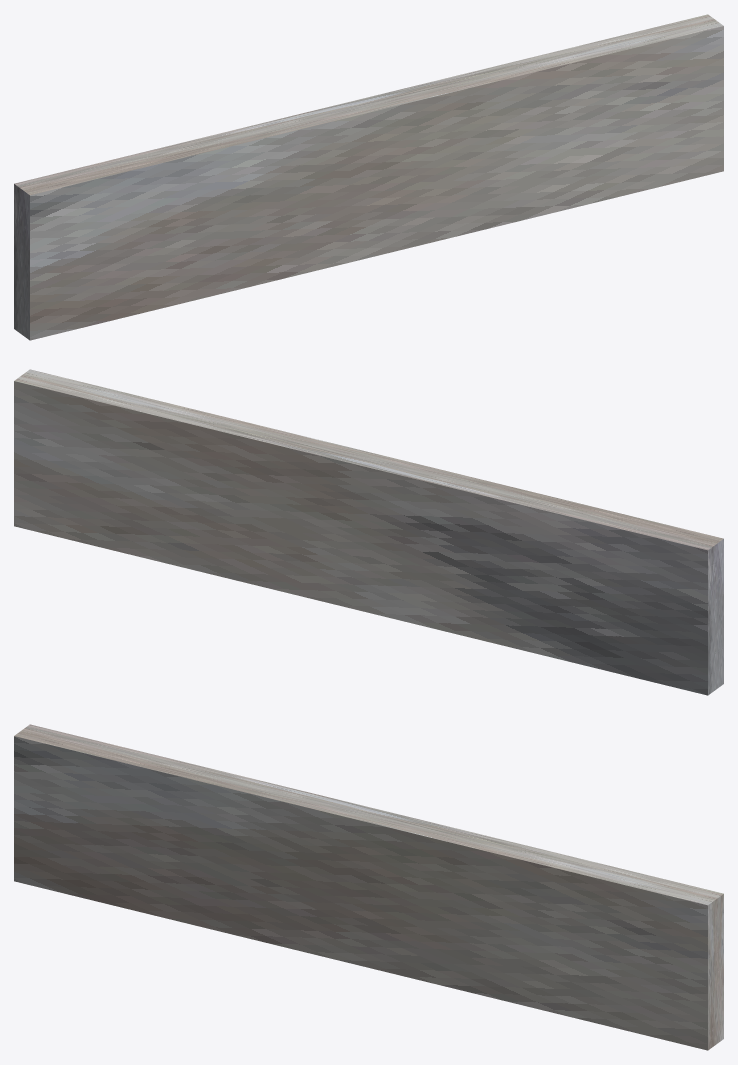
File: Paredzota.gltf
3 views of the same model, one above another, from view 1: azimuth 30°, elevation 25°; view 2: azimuth 150°, elevation 25°; view 3: azimuth 330°, elevation 25° (orthographic).
Parts seen in each view (by area): view 1: Cube; view 2: Cube; view 3: Cube.
Boxes of the visible parts, x1,y1,x2,y2 form: Cube: (14,14,723,340); Cube: (14,369,723,695); Cube: (14,724,723,1050).
Bounding box in the file's own units: 200 × 40 × 7.98.
Materials: 1 (1 with a texture image).
